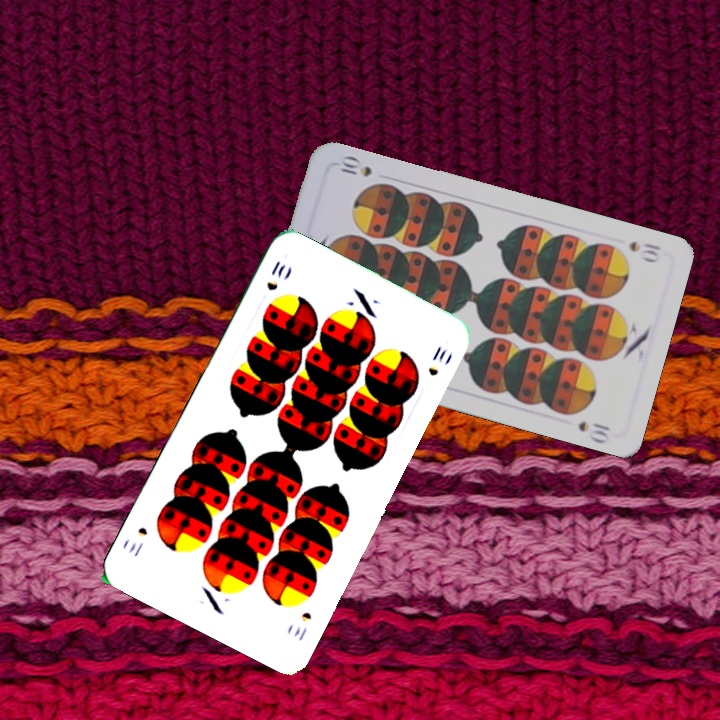S10: (625, 237, 663, 265), (262, 256, 288, 294), (289, 608, 315, 644)
